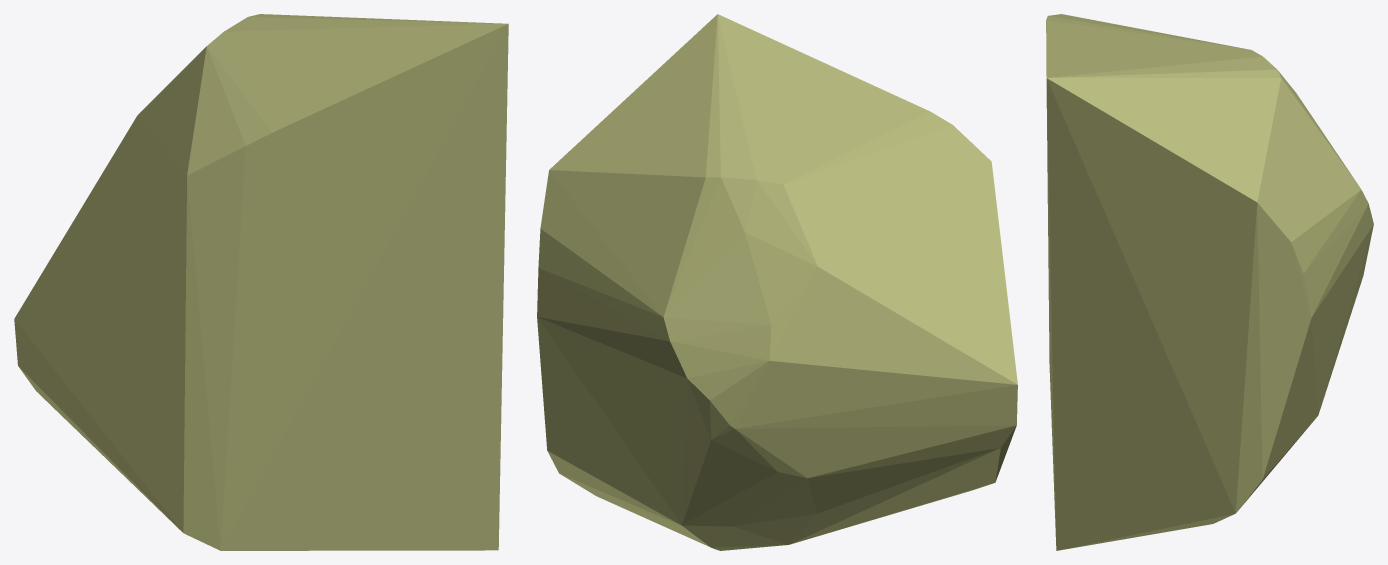
File: ppe_faceProtection_faceShield_a01.glb
3 renders of one model, left to right at view 1: azimuth 30°, elevation 25°; view 2: azimuth 150°, elevation 25°; view 3: azimuth 270°, elevation 25°, orthographic. The views are drawn at different scales.
Visible parts, largest first — view 1: geometry_0; view 2: geometry_0; view 3: geometry_0.
Boxes of the visible parts, x1,y1,x2,y2 form: geometry_0: (14, 14, 508, 550); geometry_0: (537, 14, 1017, 550); geometry_0: (1046, 14, 1373, 550).
Bounding box in the file's own units: 0.4583 × 0.4781 × 0.2991.
